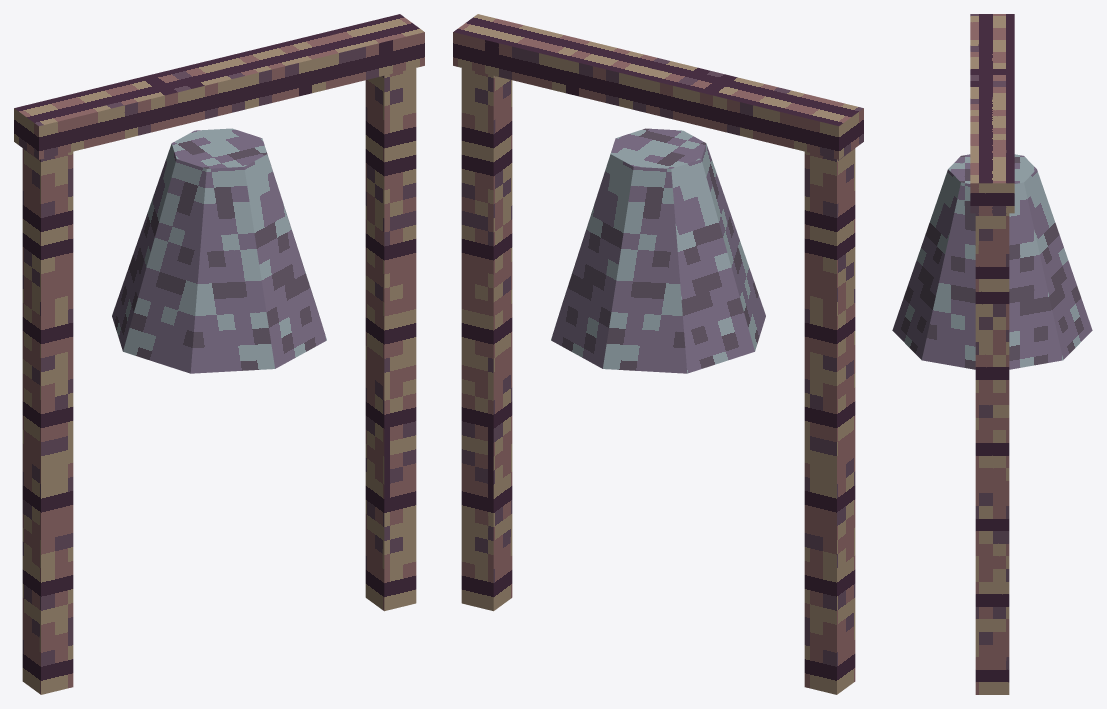
Rendered from a61_sino_de_pedra.glb.
The picture shows the model from 3 angles, left to right: view 1: azimuth 30°, elevation 25°; view 2: azimuth 150°, elevation 25°; view 3: azimuth 270°, elevation 25°; orthographic projection. The views are drawn at different scales.
Parts seen in each view (by area): view 1: a61_sino_de_pedra; view 2: a61_sino_de_pedra; view 3: a61_sino_de_pedra.
Part boxes in pixels (box(x1,y1,x2,y2)): a61_sino_de_pedra: box(14, 14, 424, 694); a61_sino_de_pedra: box(453, 14, 863, 694); a61_sino_de_pedra: box(892, 14, 1092, 694).
Size of the model in its own units: 1.8 by 2.55 by 0.9.
Materials: 2 (2 with a texture image).
